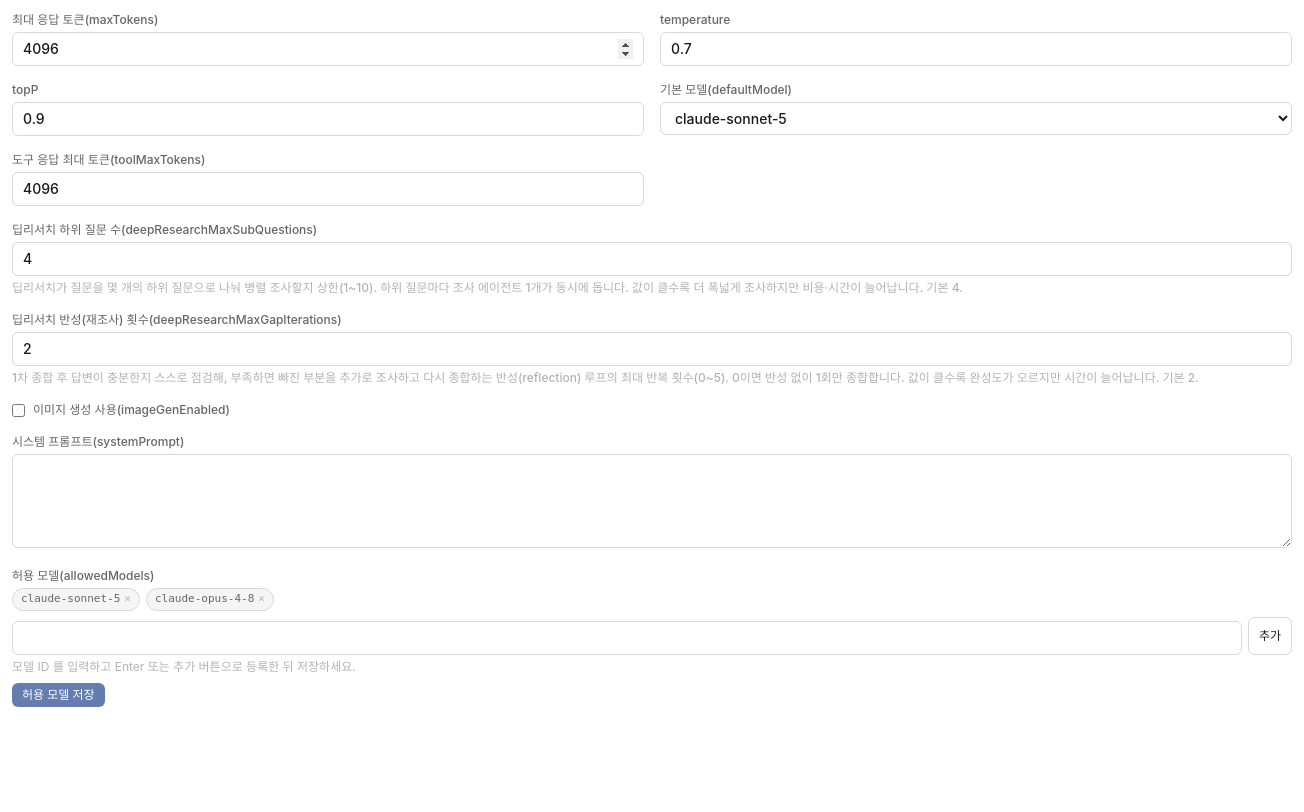
Test: ModelsGenerationTab › allowedModels 를 칩 목록으로 노출하고 입력값을 추가하면 새 칩이 생긴다
Expected: the element with test id "admin-settings-allowedModels-list" shows "claude-sonnet-5", [21,592,120,605]
Expected: the element with test id "admin-settings-allowedModels-list" shows "claude-opus-4-8", [155,592,254,605]
In the field with test id "admin-settings-allowedModels-input": (627, 638) [12,620,1242,654], type "claude-haiku-4-5"
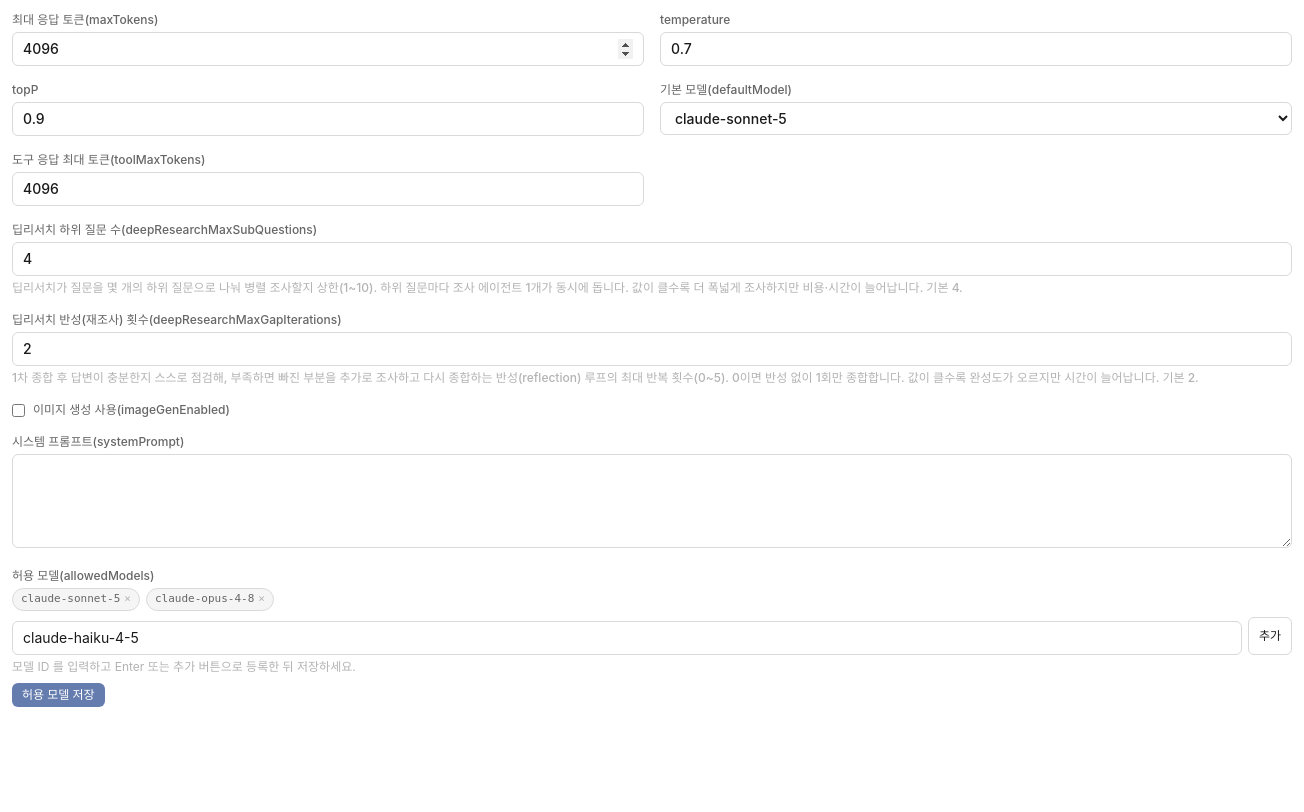
Click the button with test id "admin-settings-allowedModels-add": (1270, 636) [1248,616,1292,654]
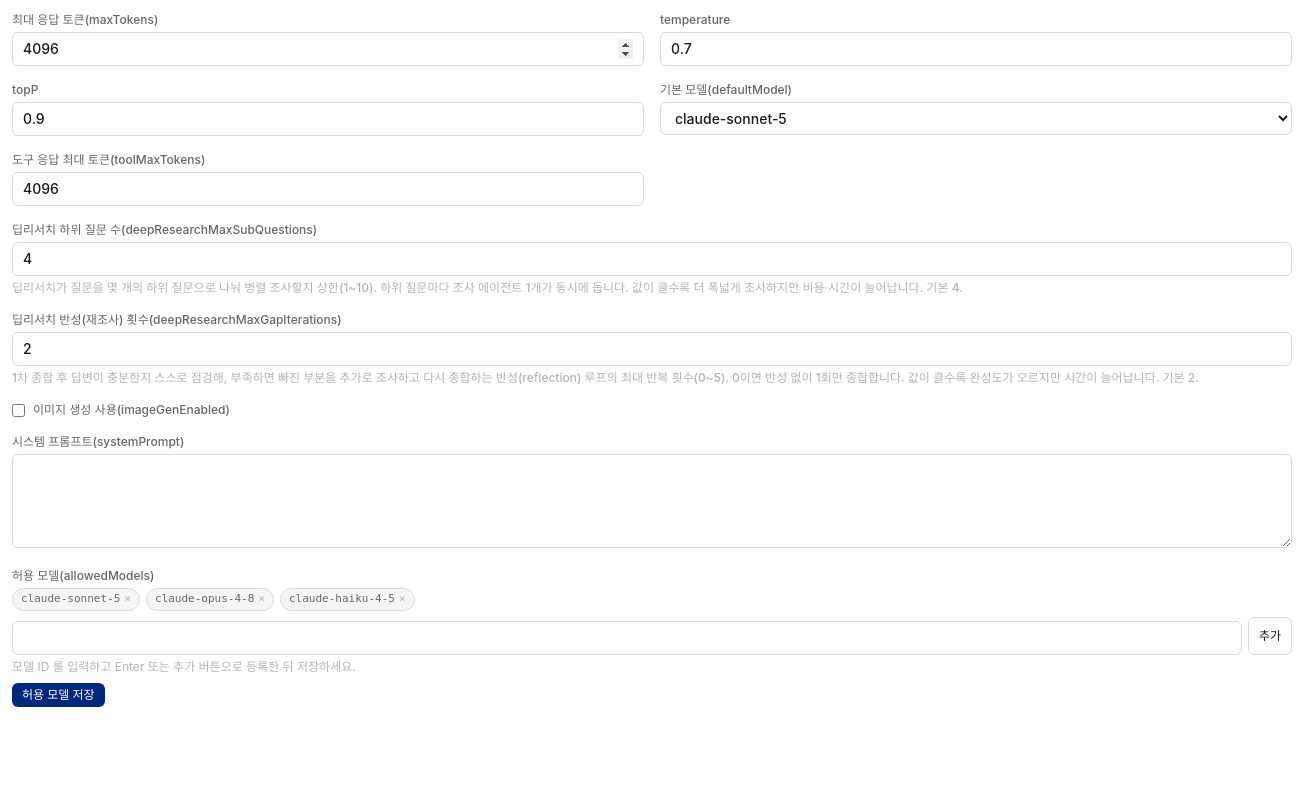
Expected: the element with test id "admin-settings-allowedModels-list" shows "claude-haiku-4-5", [289,592,395,605]
